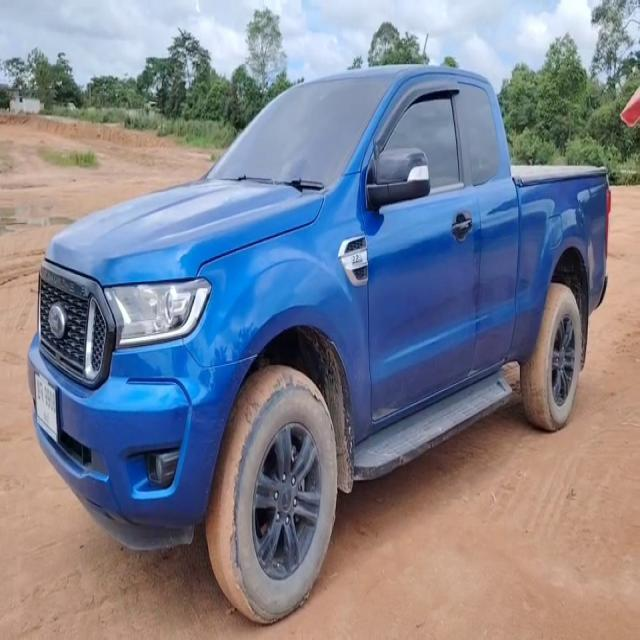Digit: (44, 384, 57, 415)
Licenseplate: (35, 371, 59, 445)
Provincename: (43, 407, 50, 428)
Thaichar: (37, 379, 44, 404)
